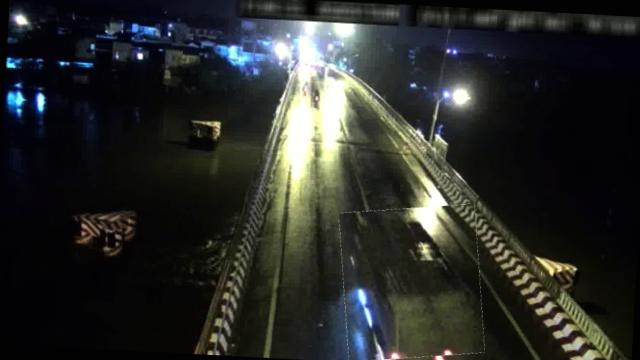Truck: (334, 201, 487, 360)
